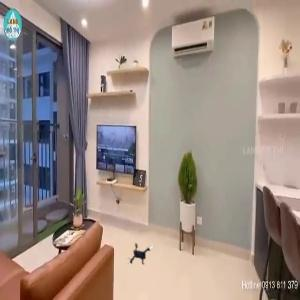drone: (122, 237, 158, 273)
